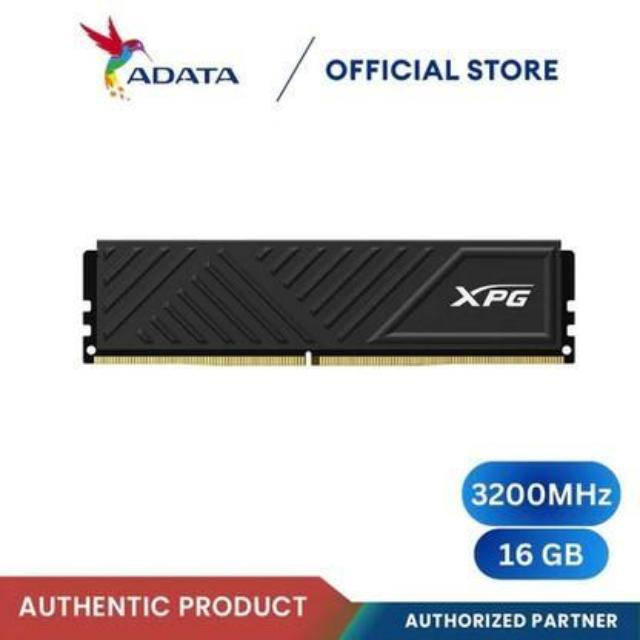RAM: (71, 216, 588, 370)
